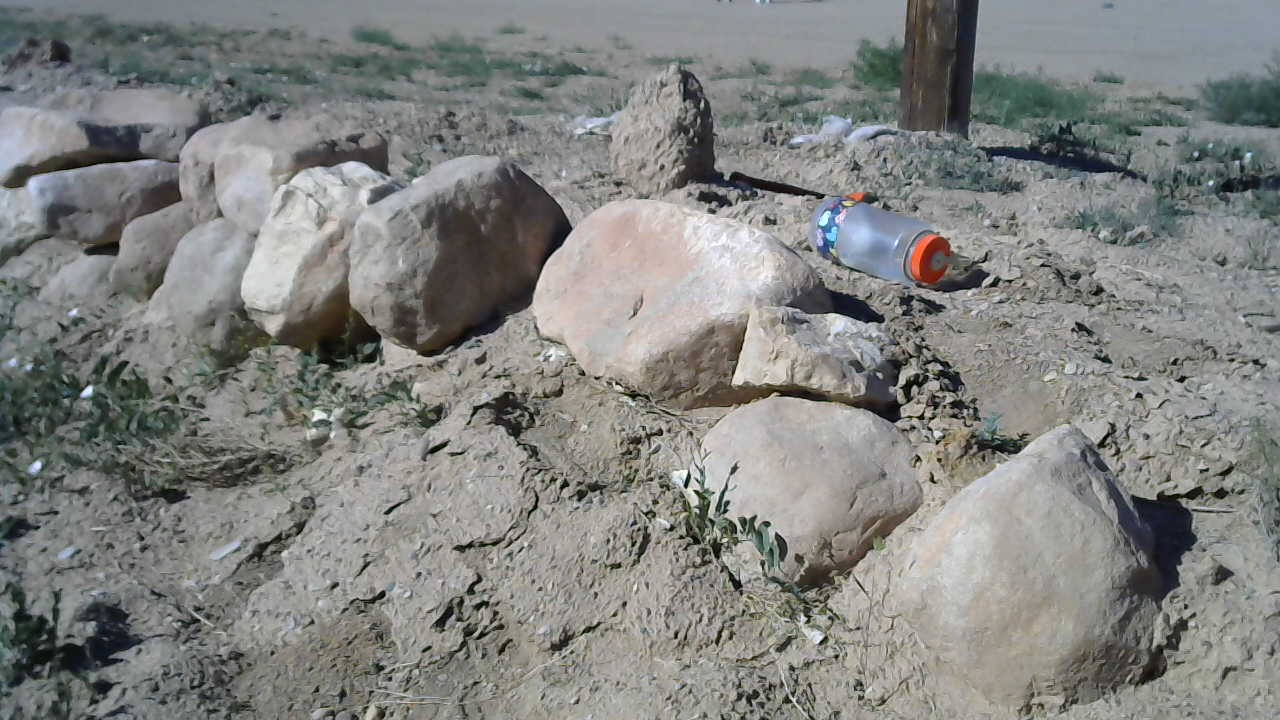bottle: (803, 172, 956, 292)
